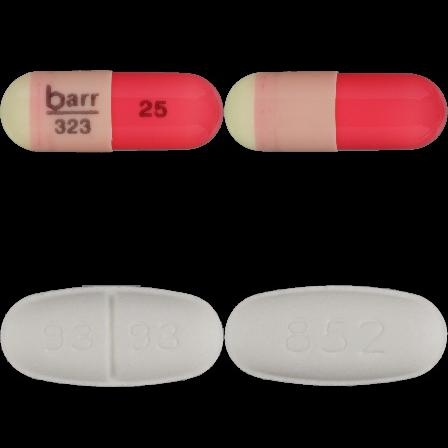55154-5564: (0, 0, 224, 224)
